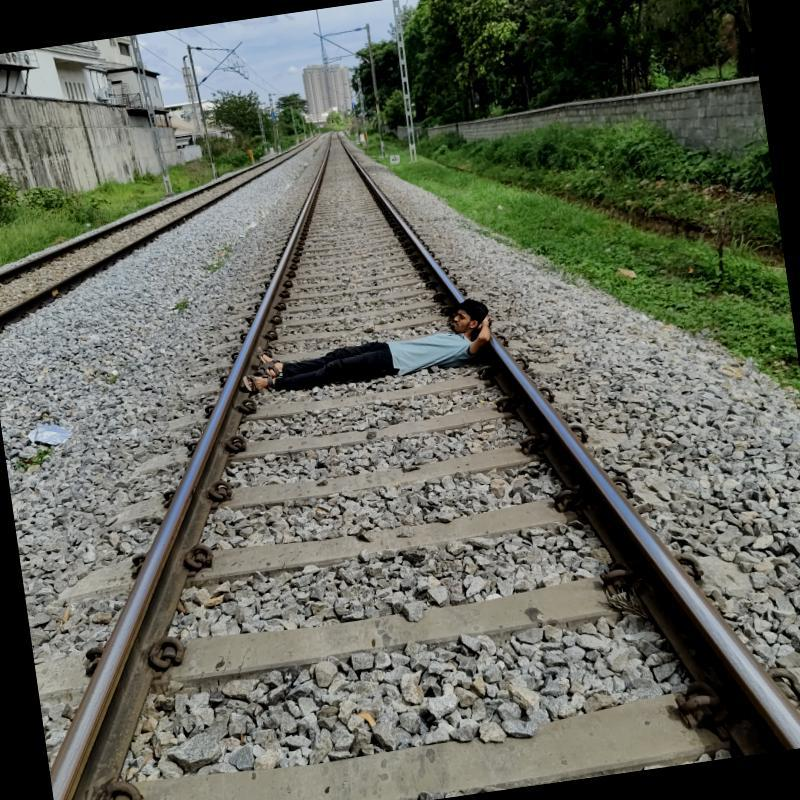sleeping: (228, 289, 504, 404)
